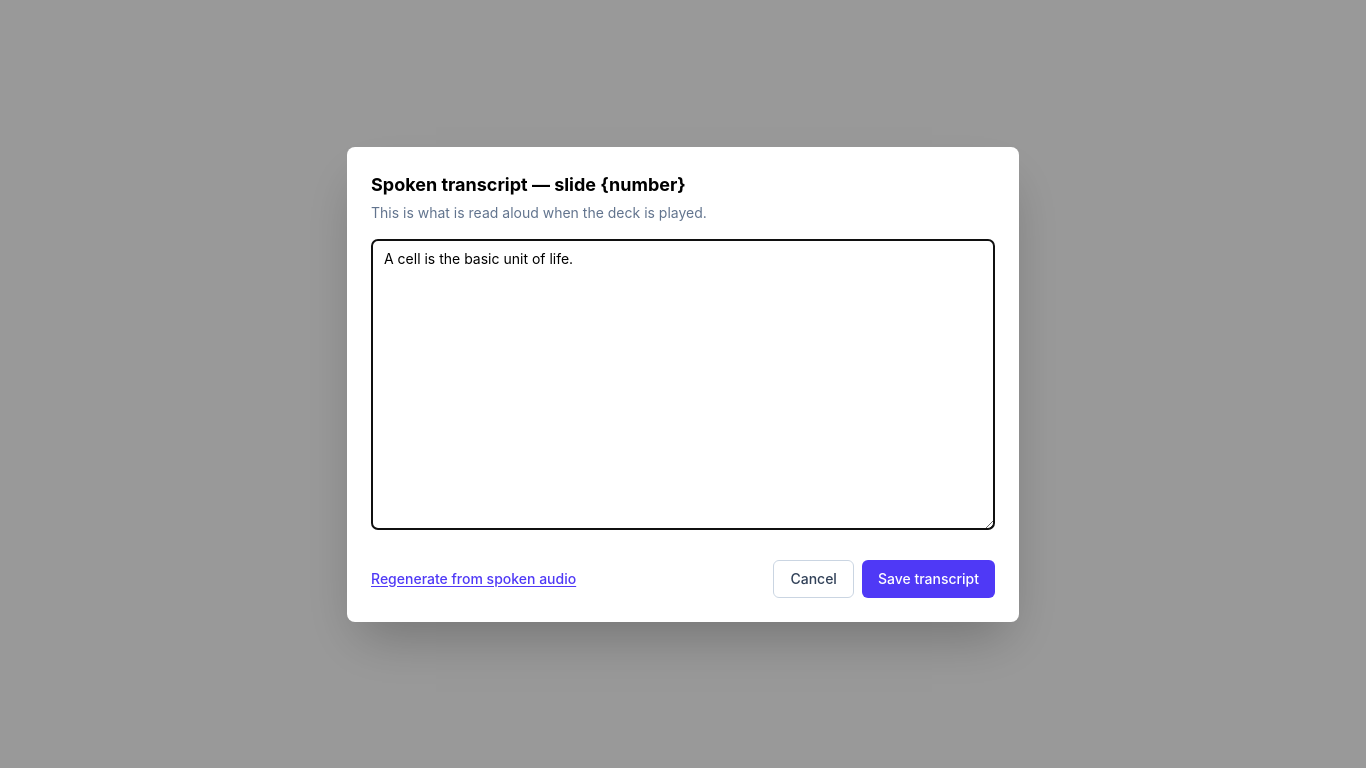
TranscriptEditorModal › confirms before discarding a regenerated transcript
This screenshot has width=1366, height=768.
Click the button "Regenerate from spoken audio" at (474, 578), box [371, 568, 576, 588]
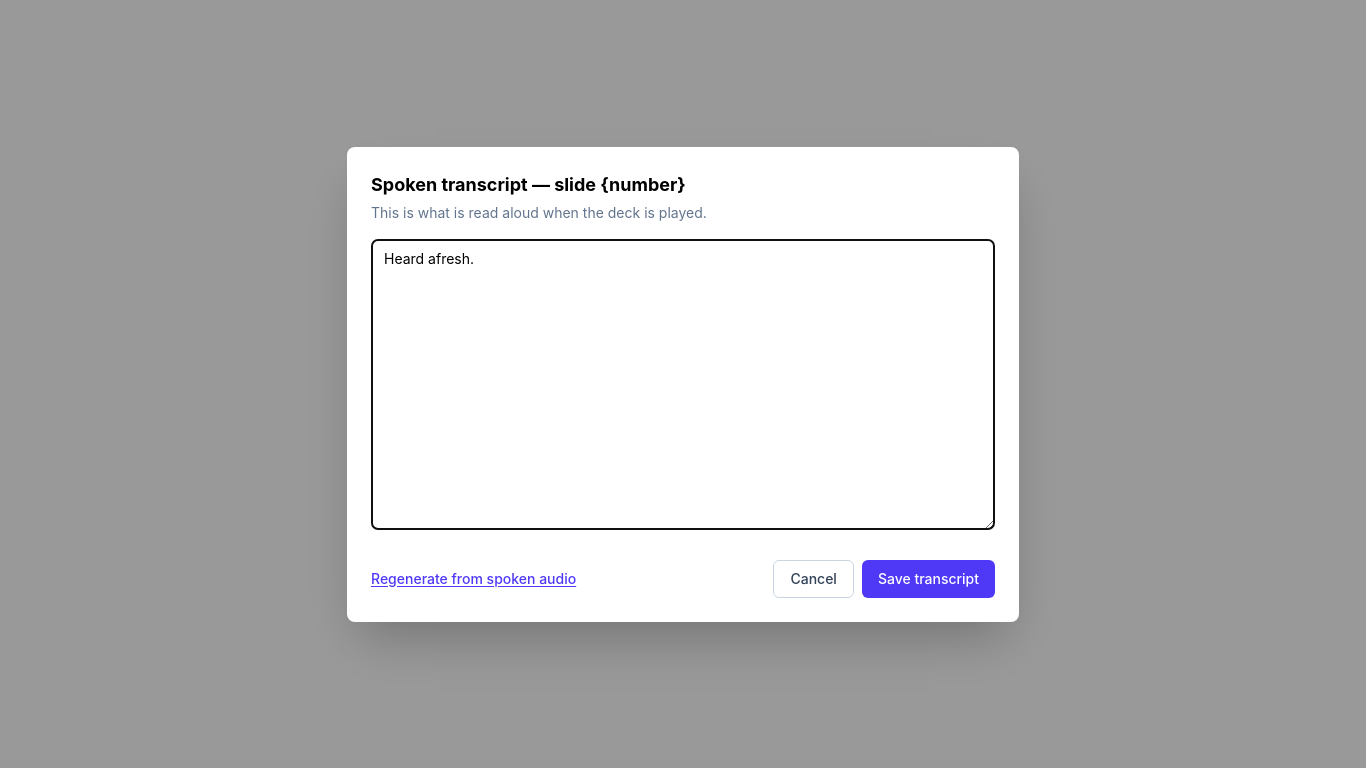
Now the text box named "Spoken transcript" holds "Heard afresh.", box [371, 238, 995, 530]
Click the button "Cancel" at (814, 578), box [773, 560, 854, 598]
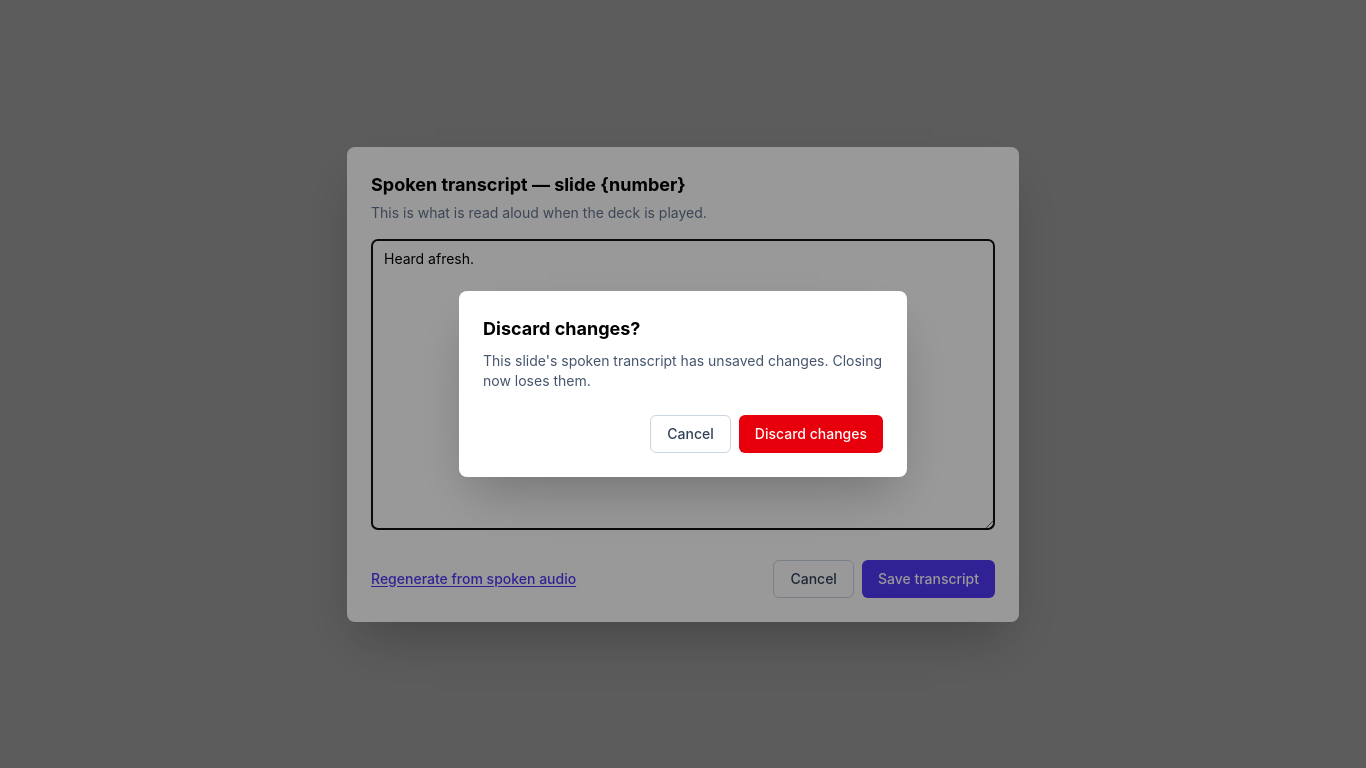
Now the dialog is shown, box [459, 291, 907, 477]
